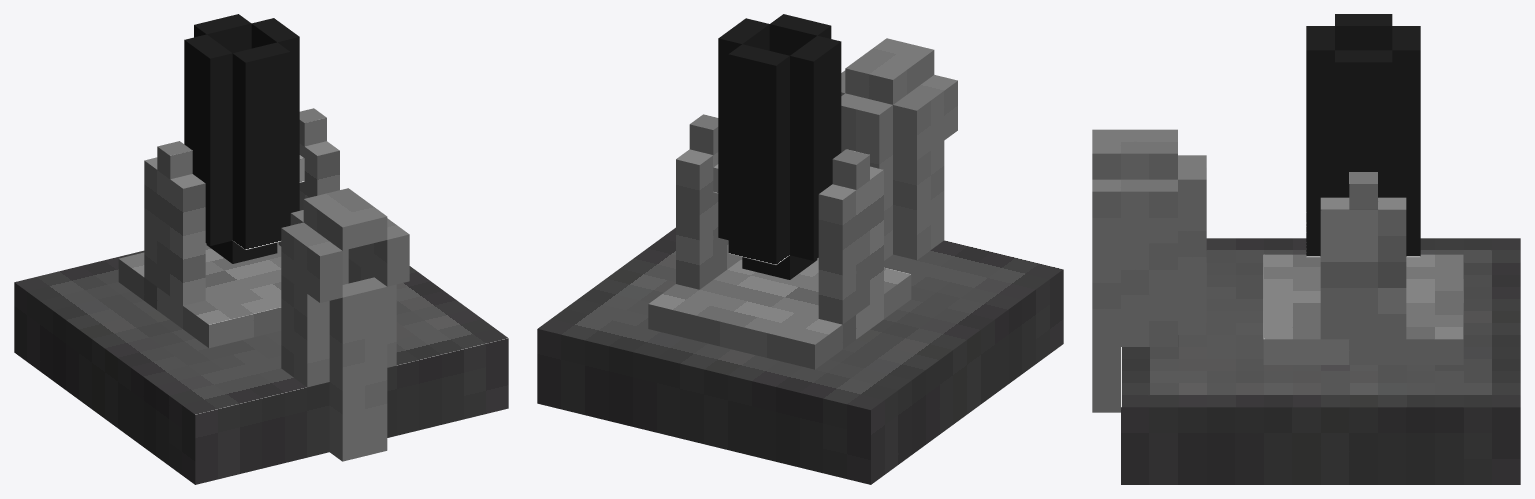
Rendered from air_cannon_inv.obj.
3 views of the same model, side by side, from view 1: azimuth 30°, elevation 25°; view 2: azimuth 150°, elevation 25°; view 3: azimuth 270°, elevation 25° (orthographic). The views are drawn at different scales.
Bounding box in the file's own units: 1 × 1 × 1.07.
